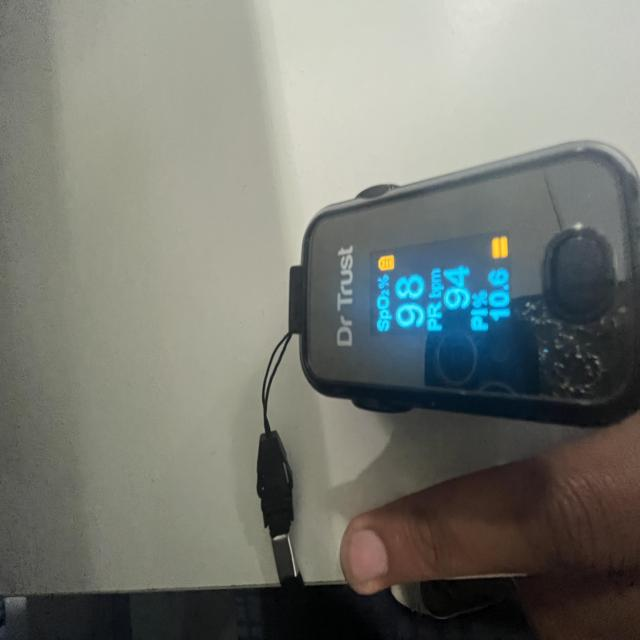spo2: (299, 141, 640, 428)
